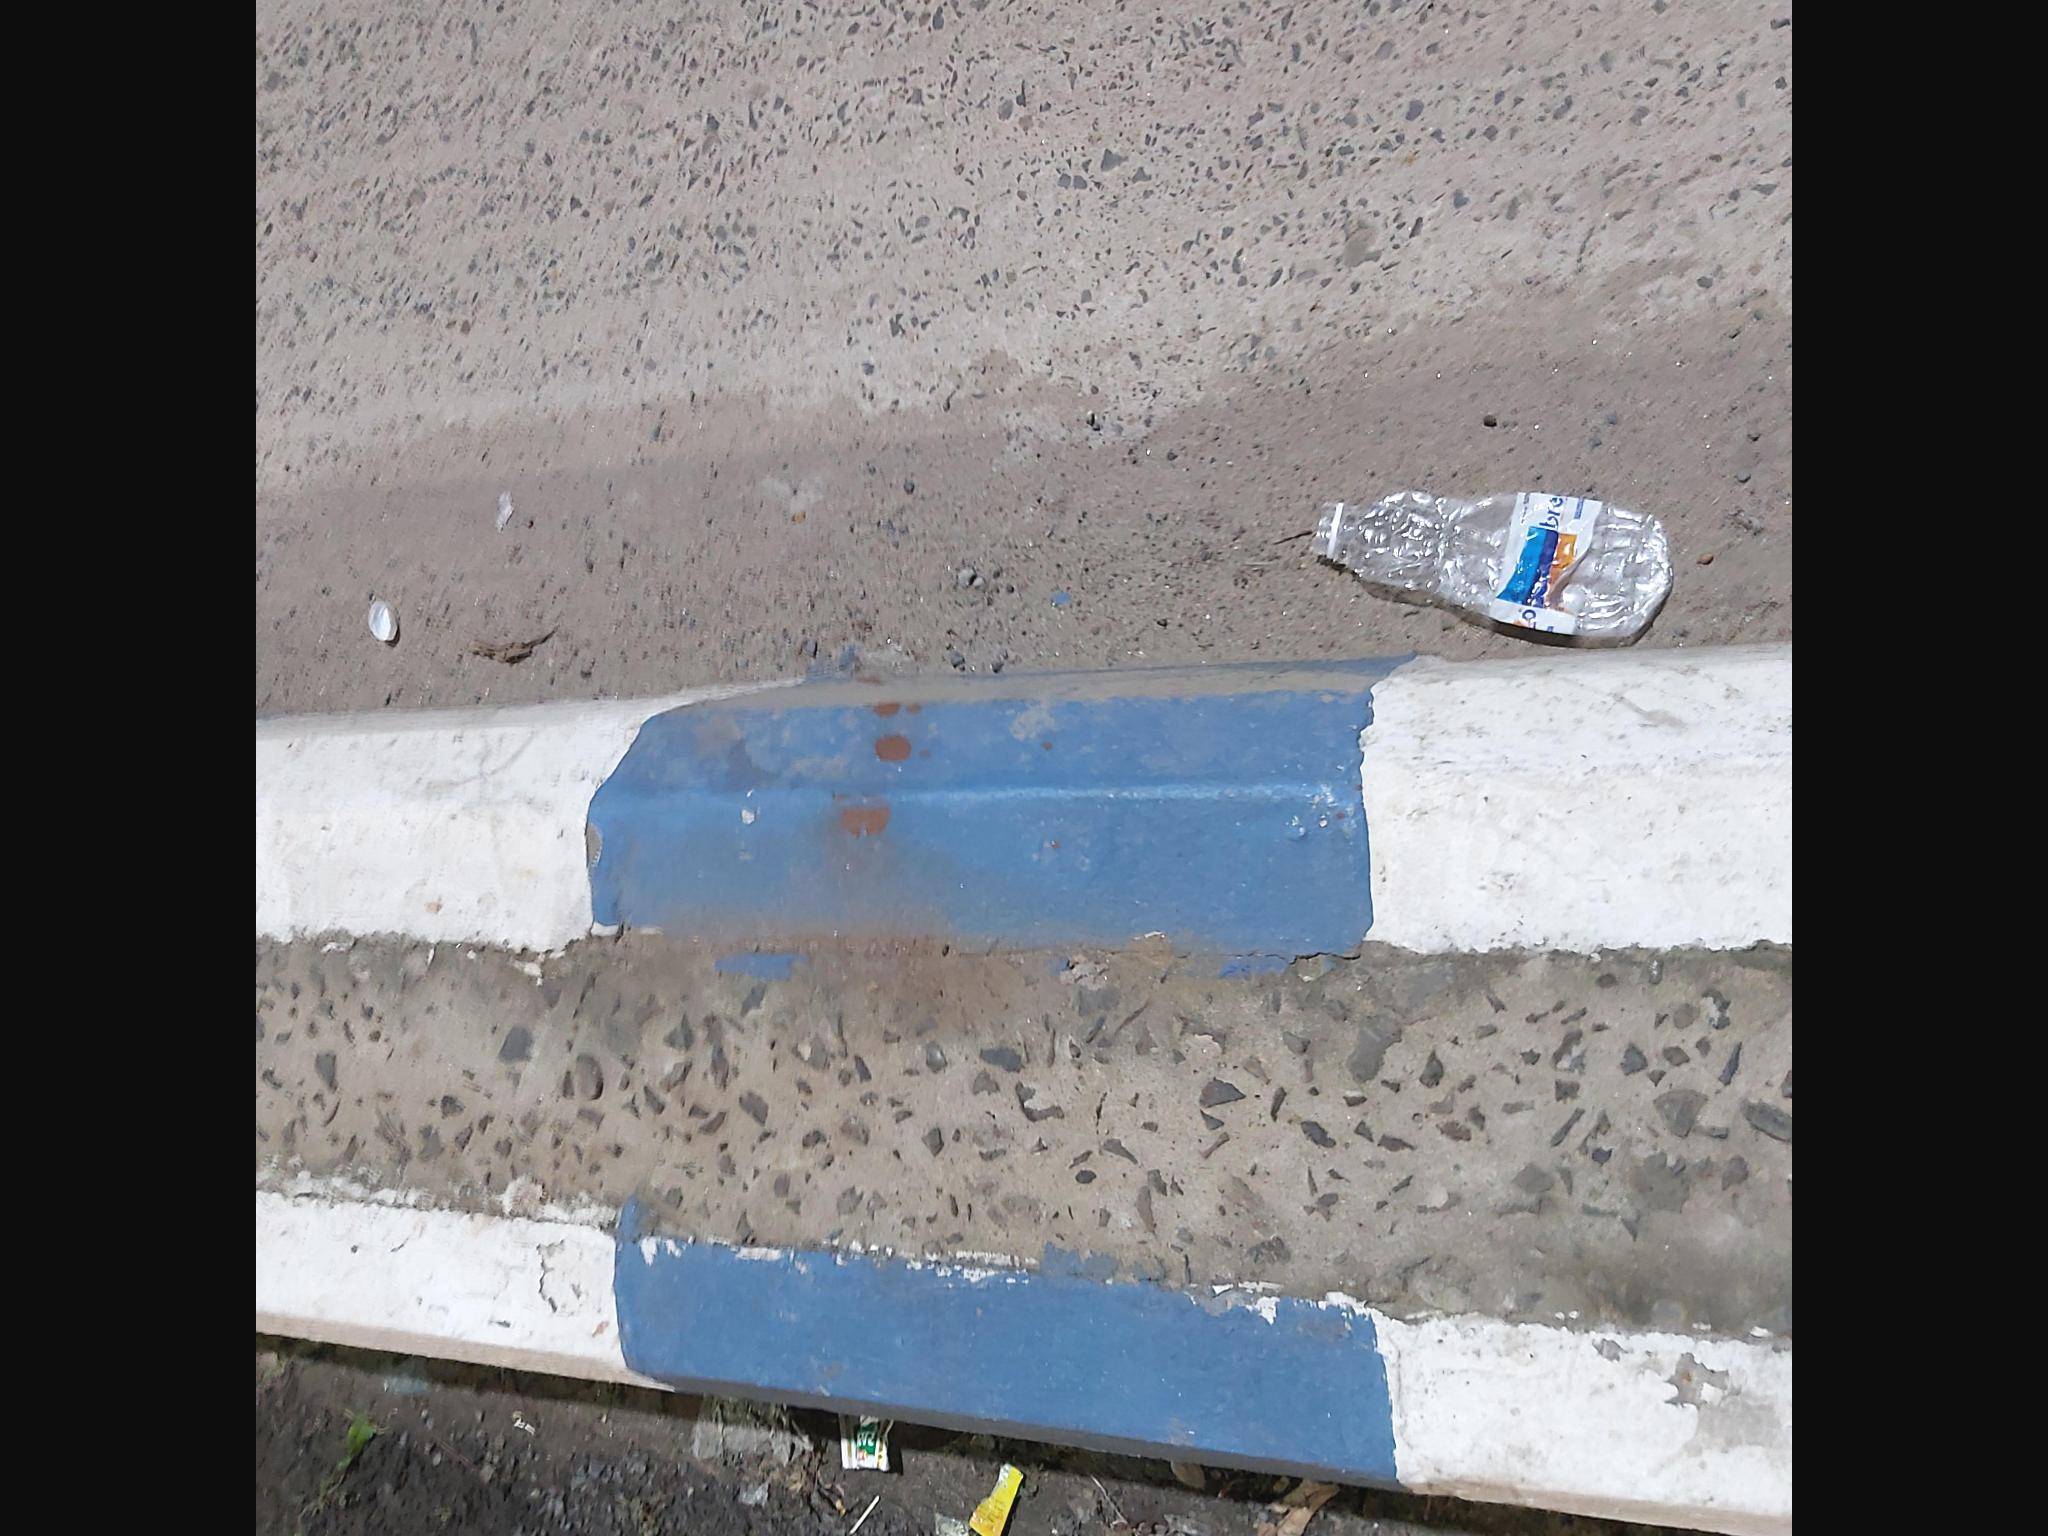bottle: (1284, 426, 1692, 647)
